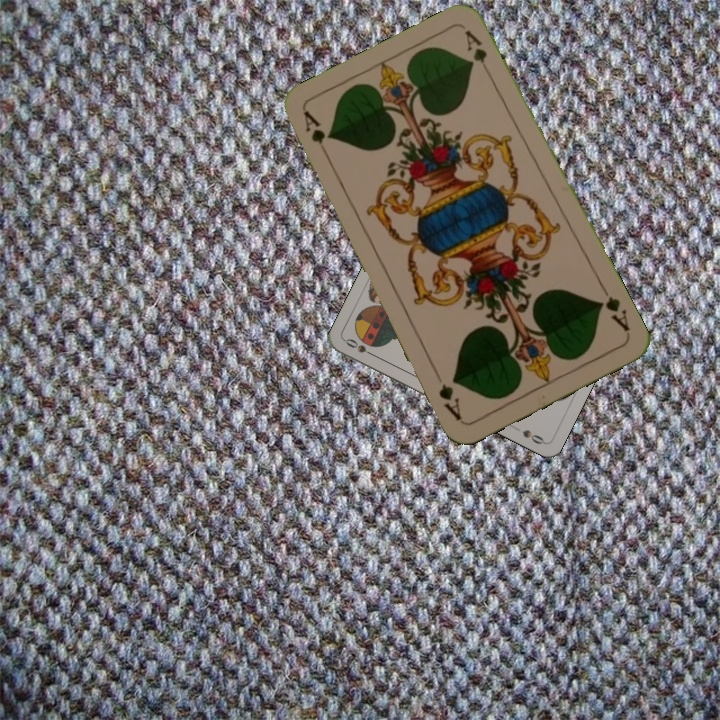GA: (593, 281, 633, 334), (300, 107, 333, 163)
SO: (341, 334, 379, 360)
